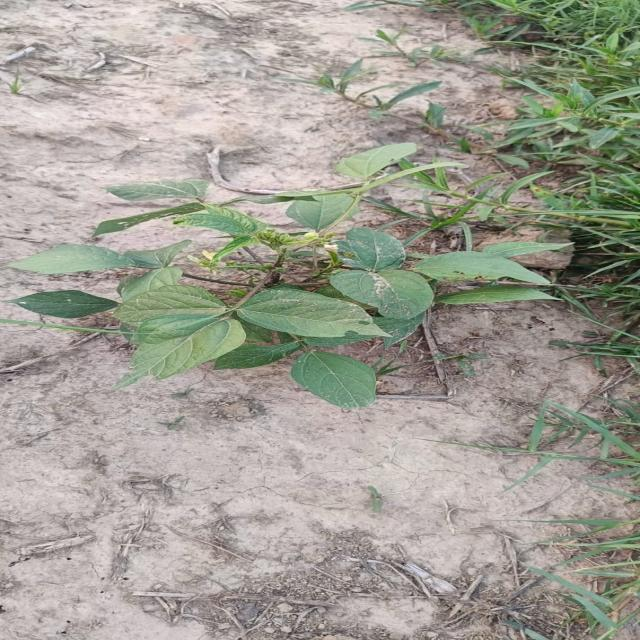plant: (5, 142, 561, 408)
